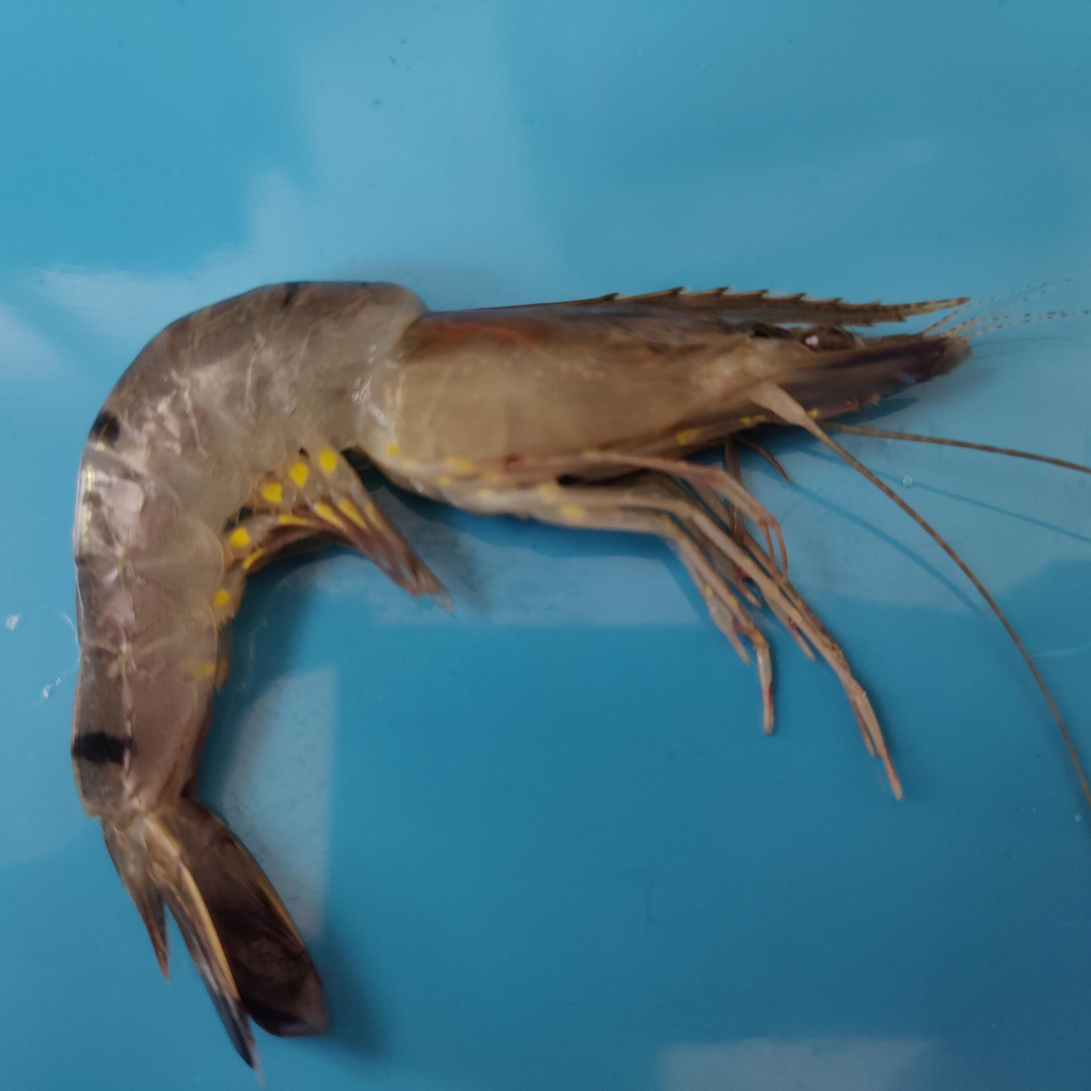whitespot: (423, 321, 620, 386)
